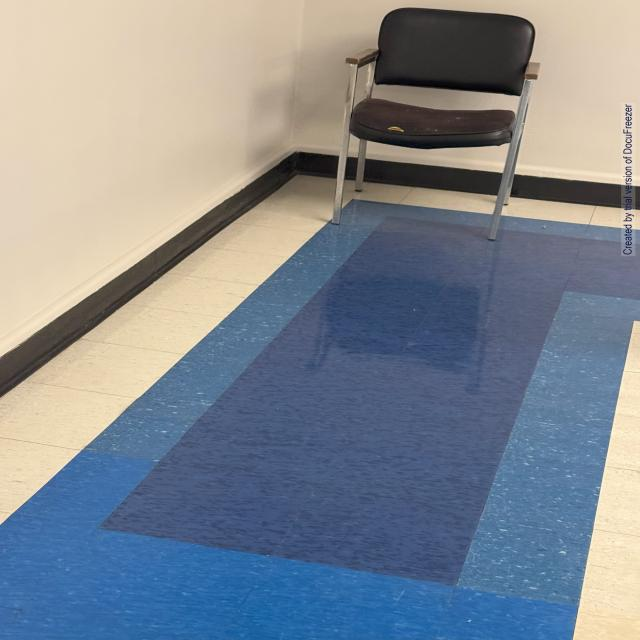chair: (335, 0, 539, 262)
